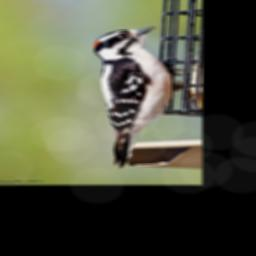Woodpecker: (91, 25, 184, 171)
